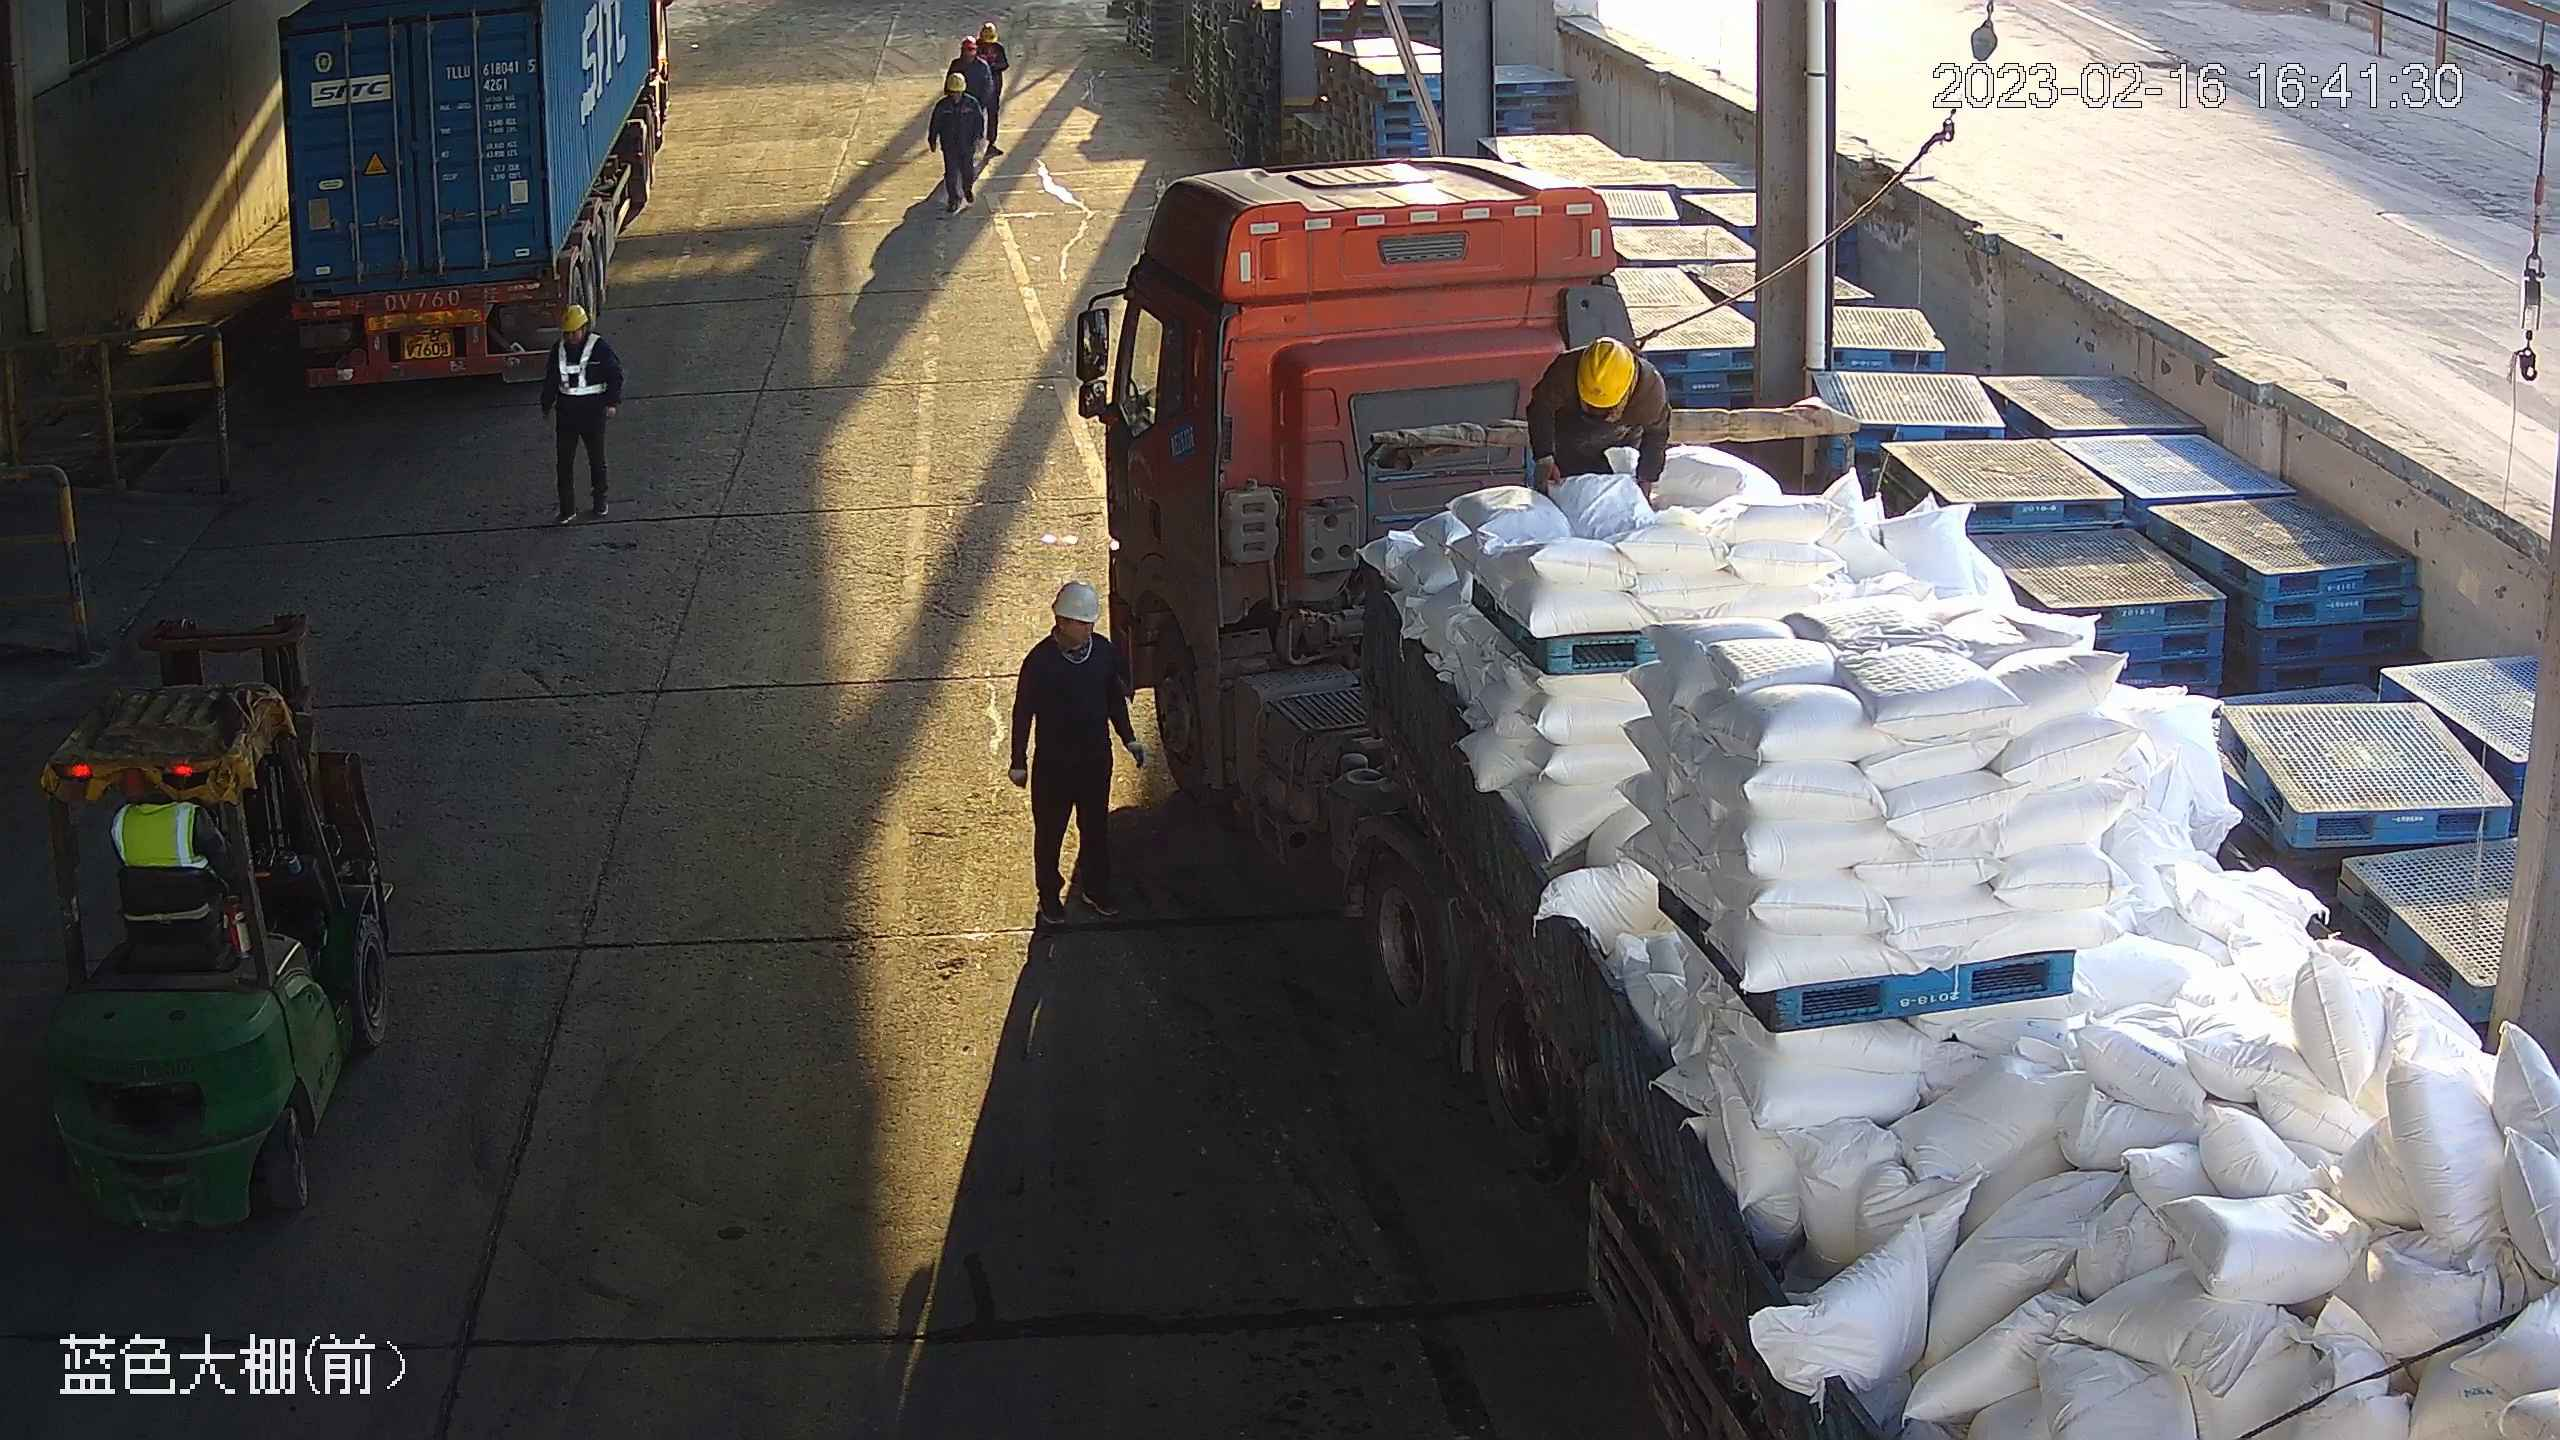belt: (1579, 393, 1636, 425)
head: (106, 768, 224, 881), (1024, 585, 1128, 695), (1555, 338, 1662, 434), (544, 303, 613, 368), (944, 35, 992, 86), (932, 72, 979, 118), (977, 21, 1006, 64)
helmet: (1574, 336, 1633, 409), (1050, 583, 1102, 623), (119, 766, 172, 800), (560, 304, 589, 333), (980, 22, 998, 43), (944, 73, 966, 92), (960, 35, 978, 49)
people: (1009, 583, 1144, 928), (1527, 336, 1671, 505), (539, 304, 623, 527), (927, 72, 984, 212), (977, 22, 1009, 157)
truck: (1071, 154, 2560, 1440), (270, 1, 678, 391)
